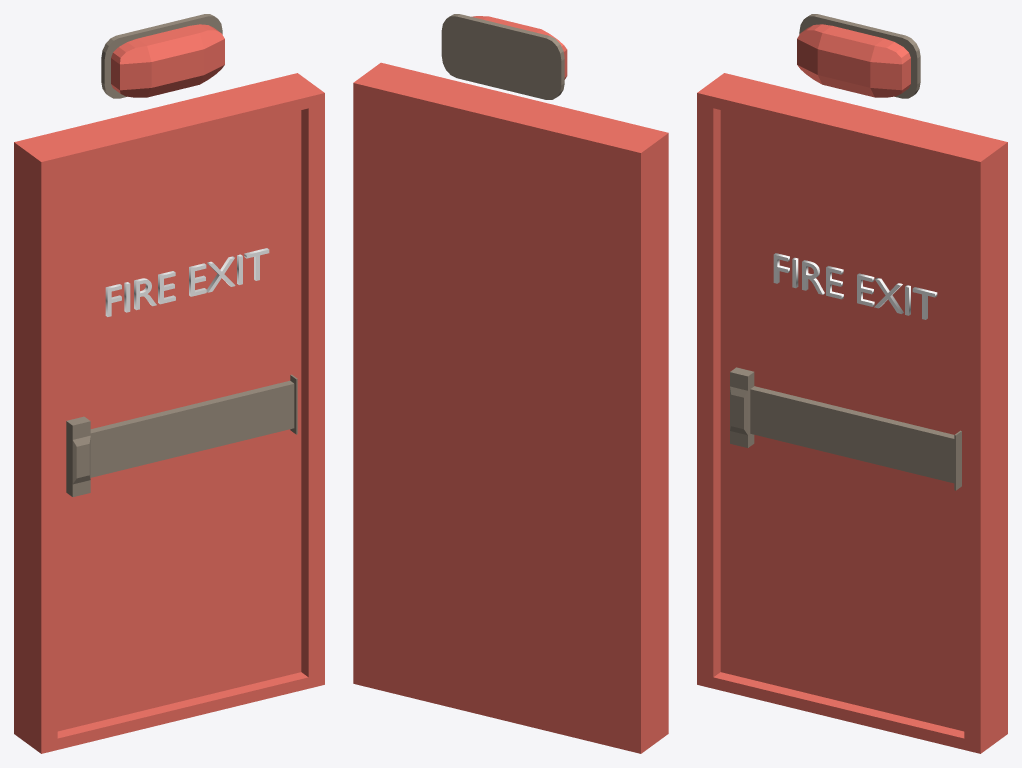
Rendered from door1.glb.
3 views of the same model, side by side, from view 1: azimuth 30°, elevation 25°; view 2: azimuth 150°, elevation 25°; view 3: azimuth 330°, elevation 25° (orthographic).
Visible parts, largest first — view 1: Cube, Cube.001, Cube.003, Text, Cube.002; view 2: Cube, Cube.002, Cube.003; view 3: Cube, Cube.001, Cube.003, Text, Cube.002.
Boxes of the visible parts, left/top/right/bottom form: Cube: left=14, top=73, right=324, bottom=753; Cube.001: left=66, top=374, right=297, bottom=496; Cube.003: left=111, top=24, right=224, bottom=97; Text: left=105, top=248, right=269, bottom=316; Cube.002: left=101, top=14, right=222, bottom=98; Cube: left=353, top=62, right=668, bottom=753; Cube.002: left=441, top=14, right=564, bottom=99; Cube.003: left=471, top=16, right=567, bottom=79; Cube: left=697, top=73, right=1007, bottom=753; Cube.001: left=730, top=367, right=961, bottom=490; Cube.003: left=797, top=24, right=910, bottom=97; Text: left=773, top=253, right=937, bottom=319; Cube.002: left=799, top=14, right=920, bottom=98.
Bounding box in the file's own units: 3 × 6.85 × 0.5123.
Materials: 5 (4 with a texture image).
